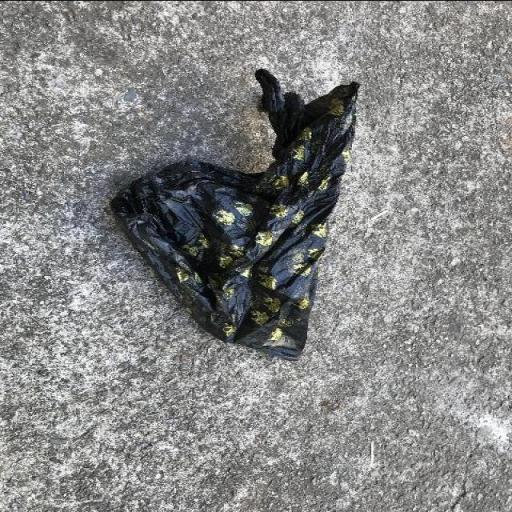plastic-bag: (110, 64, 366, 361)
